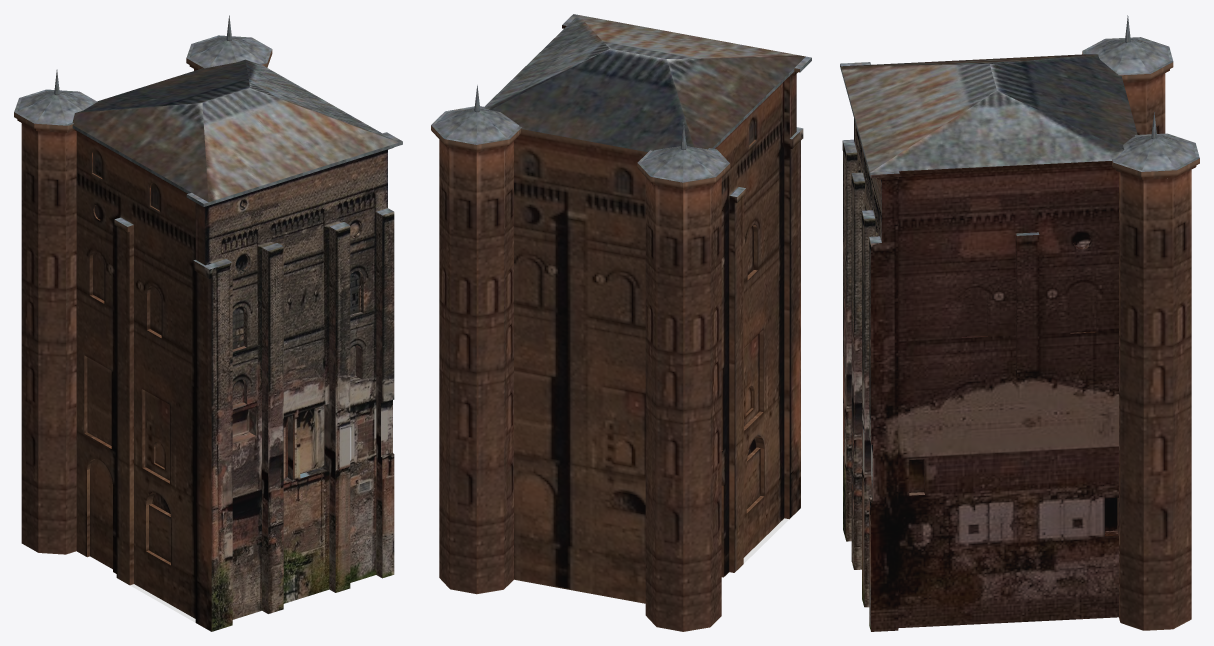
File: colliery-tower.glb
The picture shows the model from 3 angles, left to right: view 1: azimuth 30°, elevation 25°; view 2: azimuth 150°, elevation 25°; view 3: azimuth 270°, elevation 25°; orthographic projection. The views are drawn at different scales.
Size of what is drawn, in the model's own units: 17.46 by 29.98 by 19.37.
Materials: 72 (71 with a texture image).
